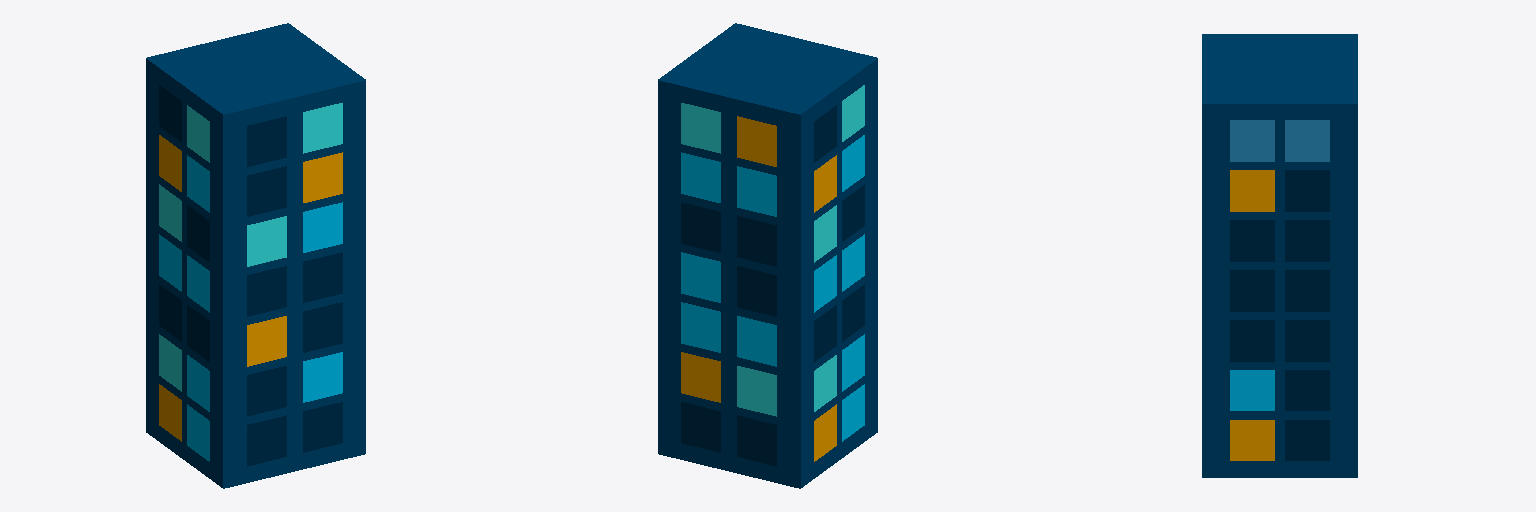
3 renders of one model, left to right at view 1: azimuth 30°, elevation 25°; view 2: azimuth 150°, elevation 25°; view 3: azimuth 270°, elevation 25°, orthographic.
Bounding box in the file's own units: 18 × 45 × 17.
Materials: 1 (1 with a texture image).